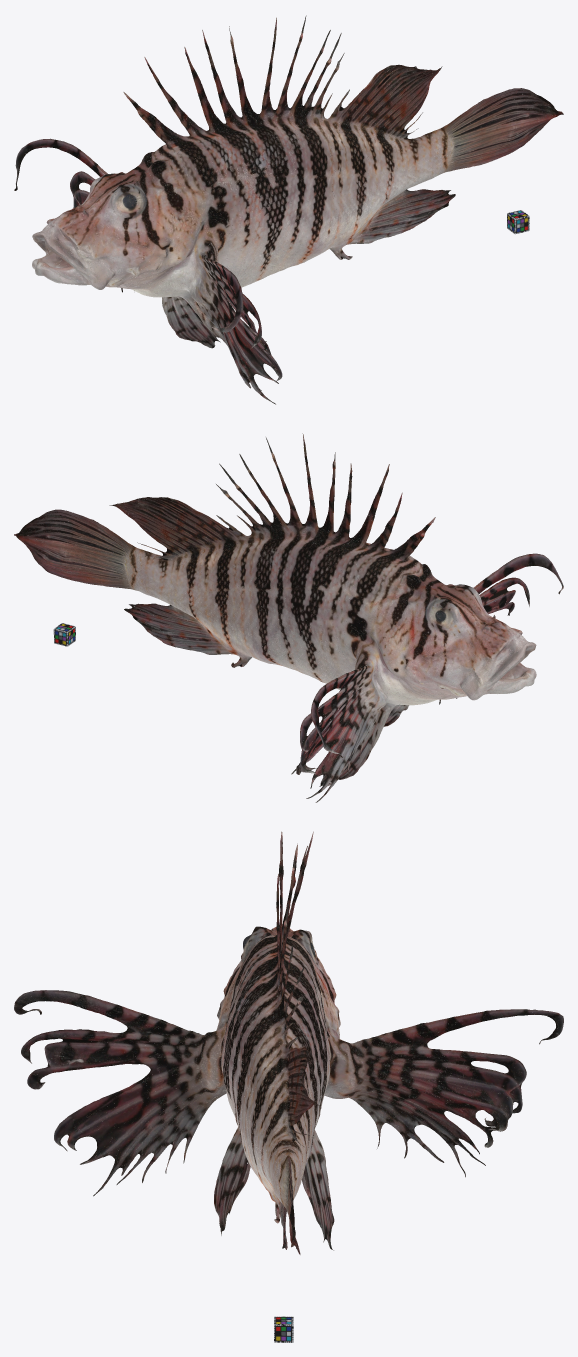
File: minokasago-94a8b668cd22.glb
3 views of the same model, one above another, from view 1: azimuth 30°, elevation 25°; view 2: azimuth 150°, elevation 25°; view 3: azimuth 270°, elevation 25° (orthographic). The views are drawn at different scales.
Visible parts, largest first — view 1: Q11651-1all-7_5; view 2: Q11651-1all-7_5; view 3: Q11651-1all-7_5.
Boxes of the visible parts, x1,y1,x2,y2 form: Q11651-1all-7_5: (14,15,563,404); Q11651-1all-7_5: (14,433,563,802); Q11651-1all-7_5: (14,831,563,1254).
Size of the model in its own units: 13.9 by 8.45 by 10.51.
Materials: 3 (3 with a texture image).
